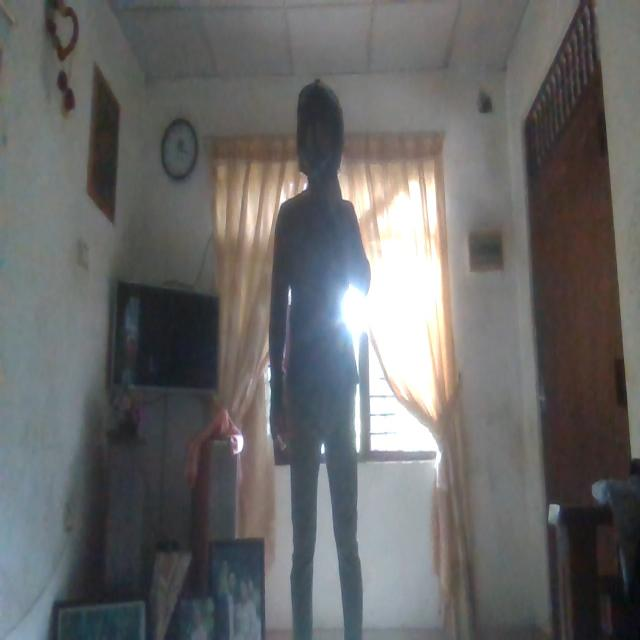Helmet_Wearer: (289, 78, 351, 199)
Person: (261, 75, 384, 640)
